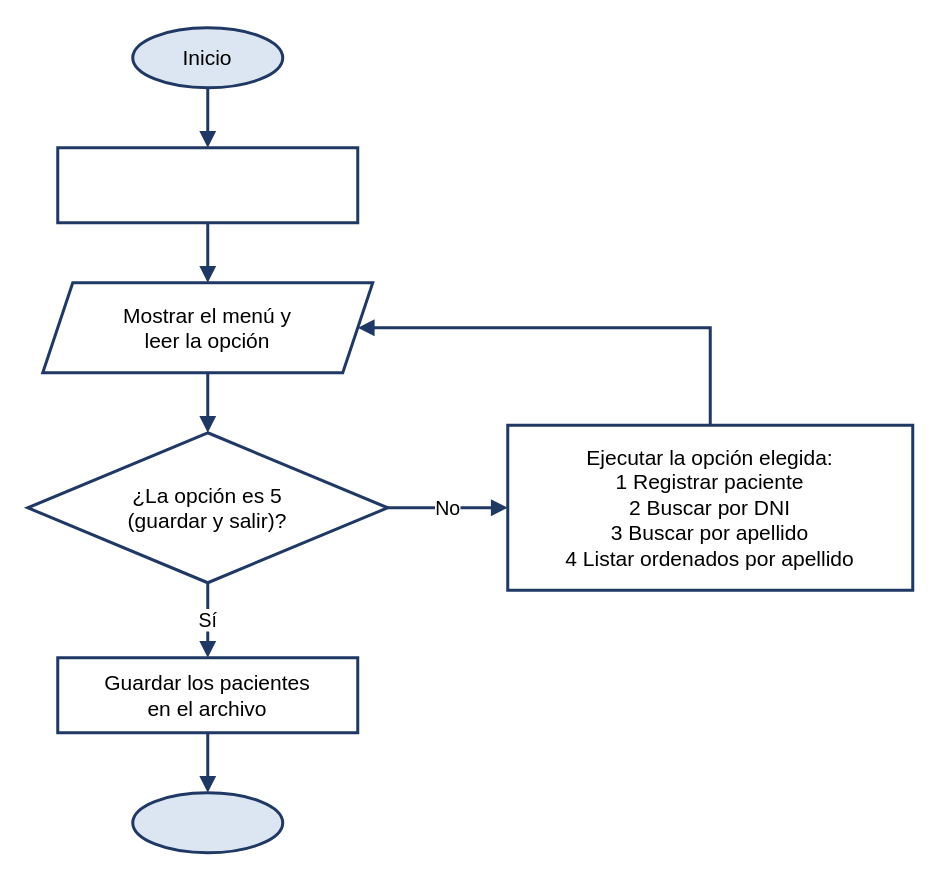
The diagram is 939 pixels wide and 879 high, and some of its shapes have lost their labels. The shapes that lost their labels are listed below. From the top down, each one's box as (x1, y1, x2, y2) in pixels, then its label:
(56, 146, 358, 224): Cargar los pacientes desde el archivo
(130, 790, 284, 854): Fin
